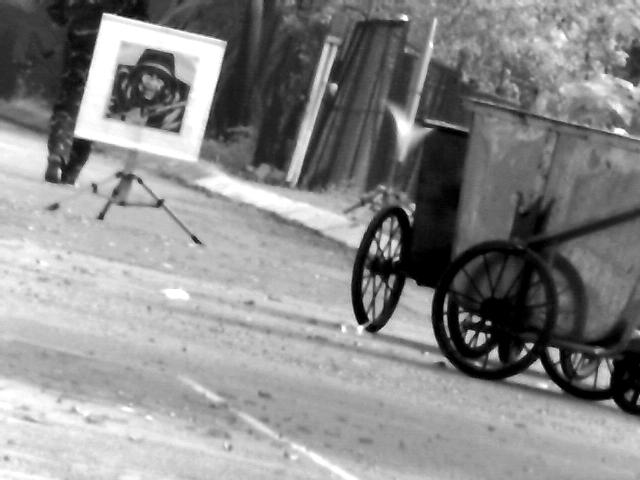bia: (103, 38, 200, 135)
chan: (47, 148, 200, 304)
